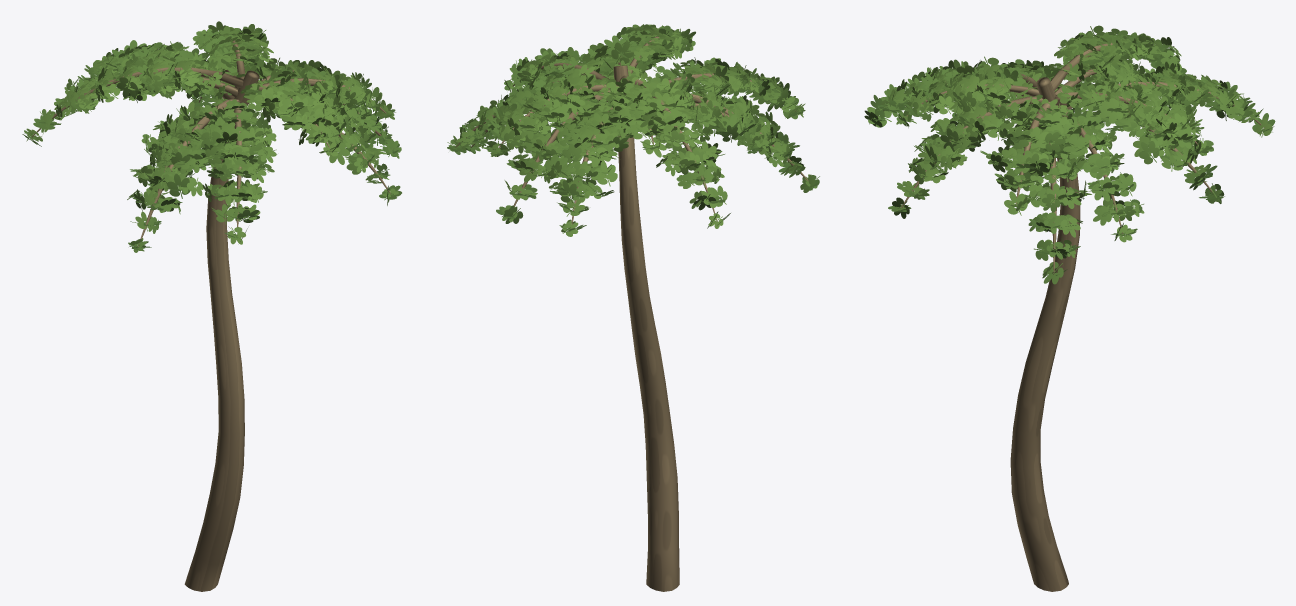
The model's file is tree.gltf.
3 renders of one model, left to right at view 1: azimuth 30°, elevation 25°; view 2: azimuth 150°, elevation 25°; view 3: azimuth 270°, elevation 25°, orthographic. The views are drawn at different scales.
Visible parts, largest first — view 1: Tree_LOD0; view 2: Tree_LOD0; view 3: Tree_LOD0.
Boxes of the visible parts, left/top/right/bottom form: Tree_LOD0: left=22, top=21, right=401, bottom=591; Tree_LOD0: left=447, top=24, right=819, bottom=591; Tree_LOD0: left=864, top=25, right=1275, bottom=591.
Size of the model in its own units: 11.12 by 16.48 by 11.71.
Materials: 2 (2 with a texture image).
